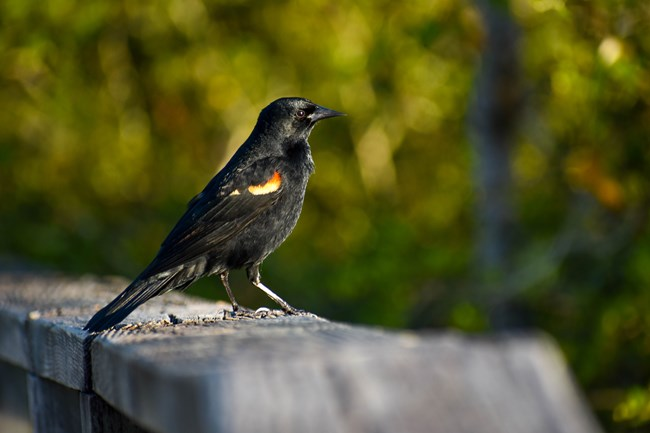bird: (132, 97, 328, 296)
